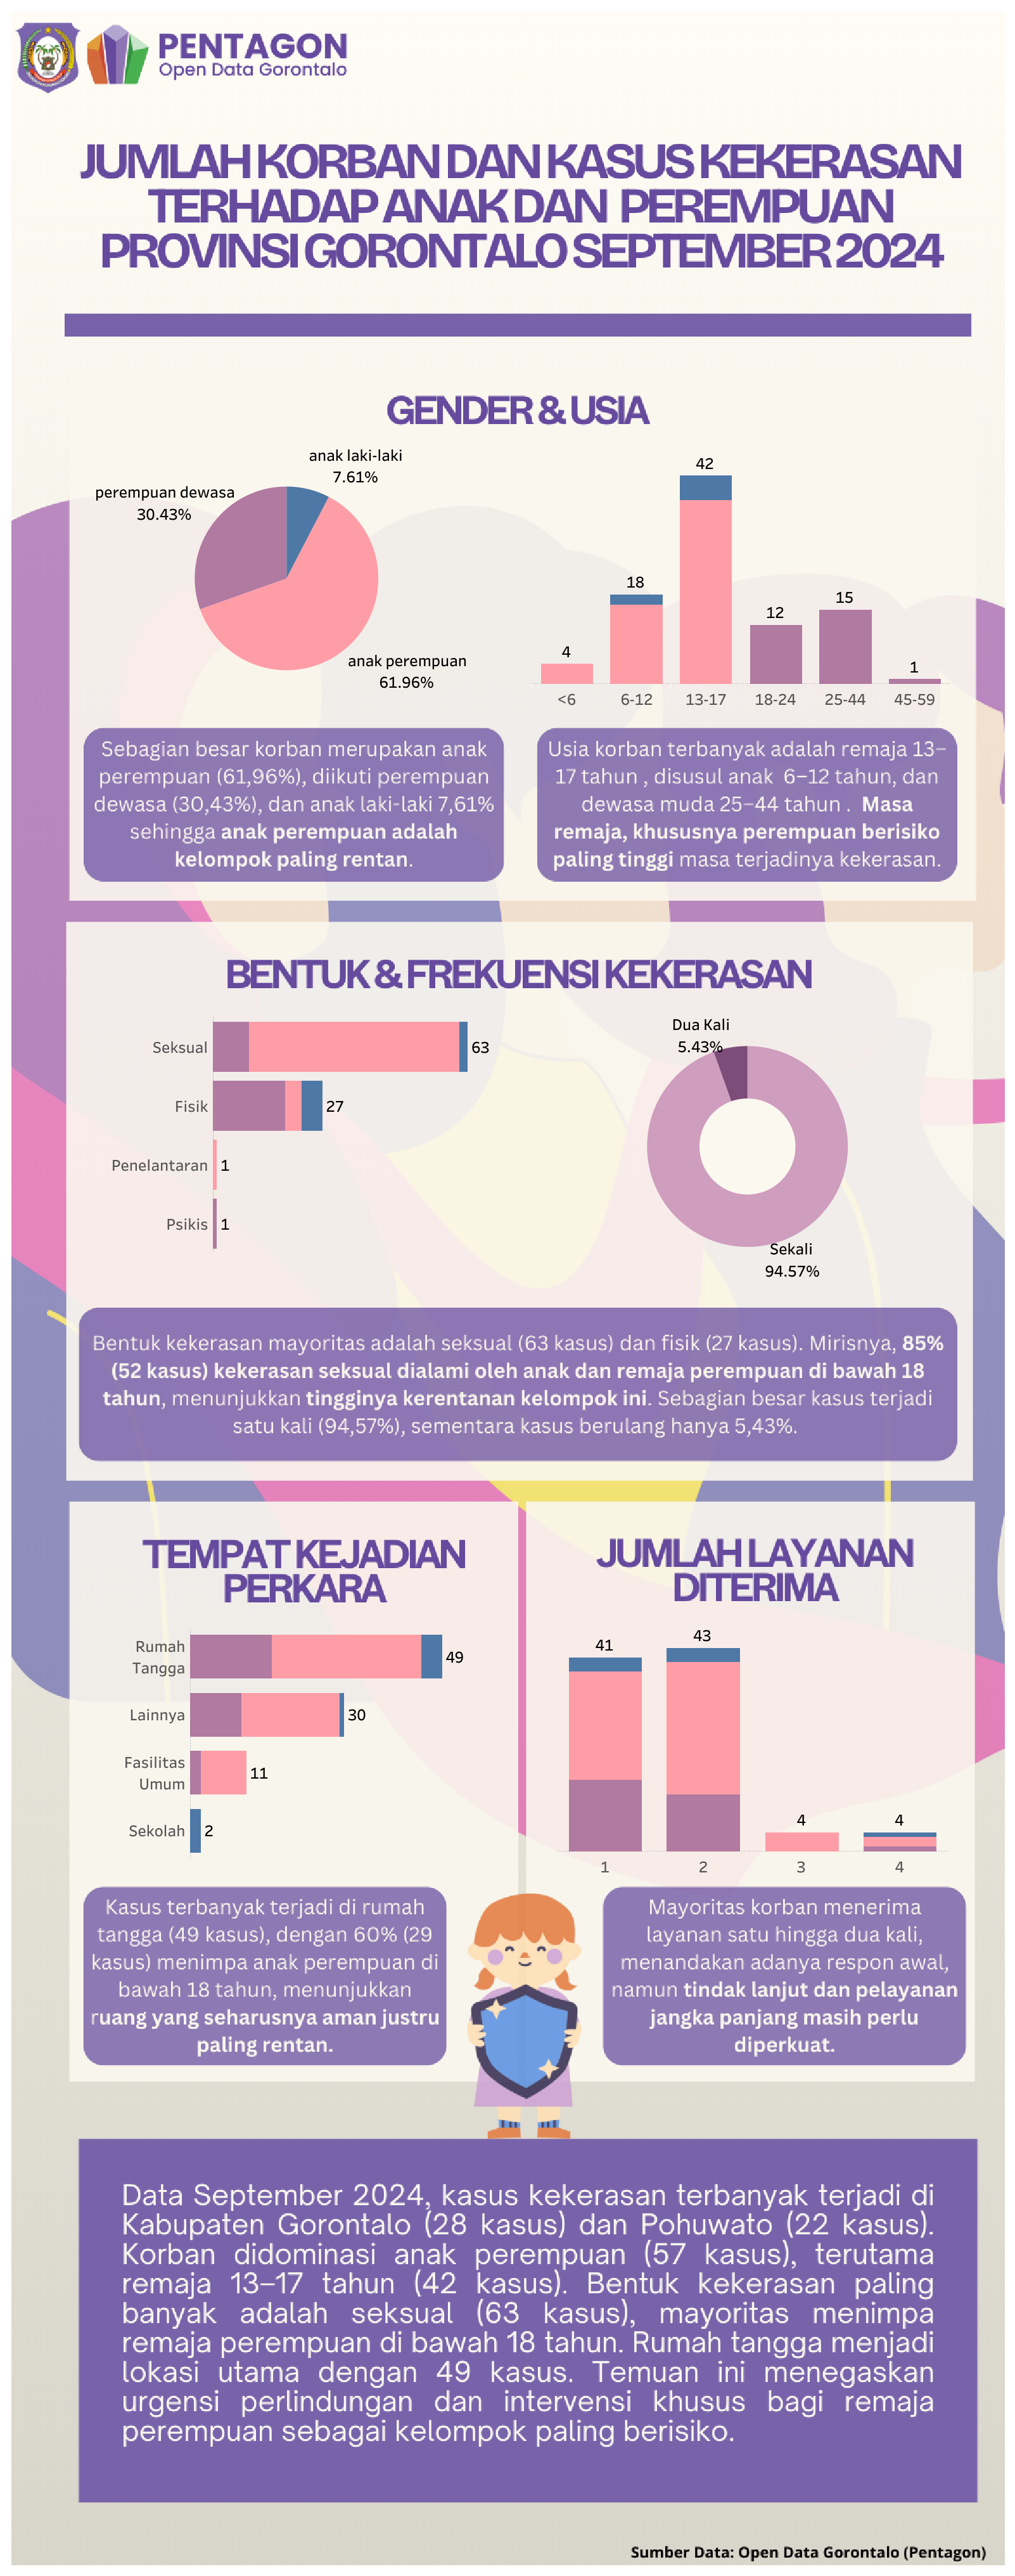

This screenshot's page, from the dashboard's own definition file:
{"tool":"tableau","page":{"name":"SIMPLE INFOGRAFIS","canvas":[1069,2699],"ordinal":1},"visuals":[{"type":"image","param":"Image/User Research (3).png","box":[8,8,1053,2683]},{"type":"filter","title":"KATEGORI DAN GENDER (2)","param":"[federated.0k8rh040ock7k61a7p74z1p71on8].[none:table_name:nk]","box":[609,436,369,92]},{"type":"filter","title":"KATEGORI DAN GENDER (2)","param":"[federated.0k8rh040ock7k61a7p74z1p71on8].[none:Kabupaten/Kota:nk]","box":[91,438,351,91]},{"type":"worksheet","title":"KATEGORI DAN GENDER (2)","mark":"Pie","box":[91,680,403,324]},{"type":"worksheet","title":"USIA (2)","mark":"Bar","rows":["Jumlah","Jumlah"],"cols":["Usia"],"box":[570,682,421,324]},{"type":"worksheet","title":"FREKUENSI KEKERASAN (2)","mark":"Pie","rows":["Calculation_1227793903479365632","Calculation_1227793903479365632"],"box":[562,1118,425,325]},{"type":"worksheet","title":"BENTUK KEKERASAN (2)","mark":"Bar","rows":["Bentuk Kekerasan"],"cols":["Jumlah (UNION ALL BENTUK KEKERASAN.csv)","Jumlah (UNION ALL BENTUK KEKERASAN.csv)"],"box":[118,1121,356,331]},{"type":"worksheet","title":"TKP (2)","mark":"Bar","rows":["Tempat Kejadian"],"cols":["Jumlah (UNION ALL TKP.csv)","Jumlah (UNION ALL TKP.csv)"],"box":[106,1595,407,445]},{"type":"worksheet","title":"LAYANAN DITERIMA (2)","mark":"Bar","rows":["Jumlah (UNION ALL JUMLAH LAYANAN DITERIMA.csv)","Jumlah (UNION ALL JUMLAH LAYANAN DITERIMA.csv)"],"cols":["Frekuensi Layanan Diterima"],"box":[585,1597,413,449]}]}

Visuals, with their boxes in screenshot pixels (x1, y1, x2, y2), scaled from the page's 1069x2699 canvas onto the 1015x2576 screenshot:
image: Rect(8, 8, 1007, 2568)
"KATEGORI DAN GENDER (2)" filter: Rect(578, 416, 929, 504)
"KATEGORI DAN GENDER (2)" filter: Rect(86, 418, 419, 505)
"KATEGORI DAN GENDER (2)" worksheet (Pie marks): Rect(86, 649, 469, 958)
"USIA (2)" worksheet (Bar marks): Rect(541, 651, 941, 960)
"FREKUENSI KEKERASAN (2)" worksheet (Pie marks): Rect(533, 1067, 937, 1377)
"BENTUK KEKERASAN (2)" worksheet (Bar marks): Rect(112, 1070, 450, 1386)
"TKP (2)" worksheet (Bar marks): Rect(101, 1523, 487, 1947)
"LAYANAN DITERIMA (2)" worksheet (Bar marks): Rect(556, 1524, 948, 1953)
